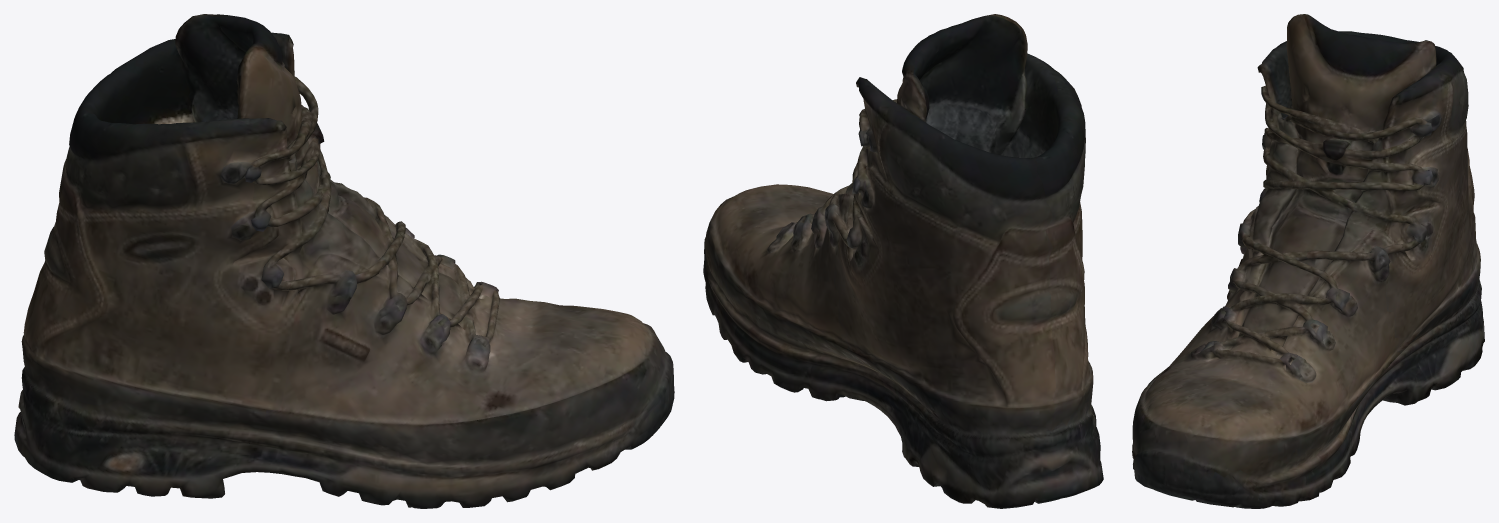
Rendered from hiking-boot.glb.
3 views of the same model, side by side, from view 1: azimuth 30°, elevation 25°; view 2: azimuth 150°, elevation 25°; view 3: azimuth 270°, elevation 25° (orthographic). The views are drawn at different scales.
Parts seen in each view (by area): view 1: Object_0; view 2: Object_0; view 3: Object_0.
Part boxes in pixels (x1,y1,x2,y2): Object_0: (14,14,674,508); Object_0: (703,14,1103,508); Object_0: (1132,14,1484,508).
Bounding box in the file's own units: 0.2606 × 0.2085 × 0.1757.
1 material, 1 textured.
